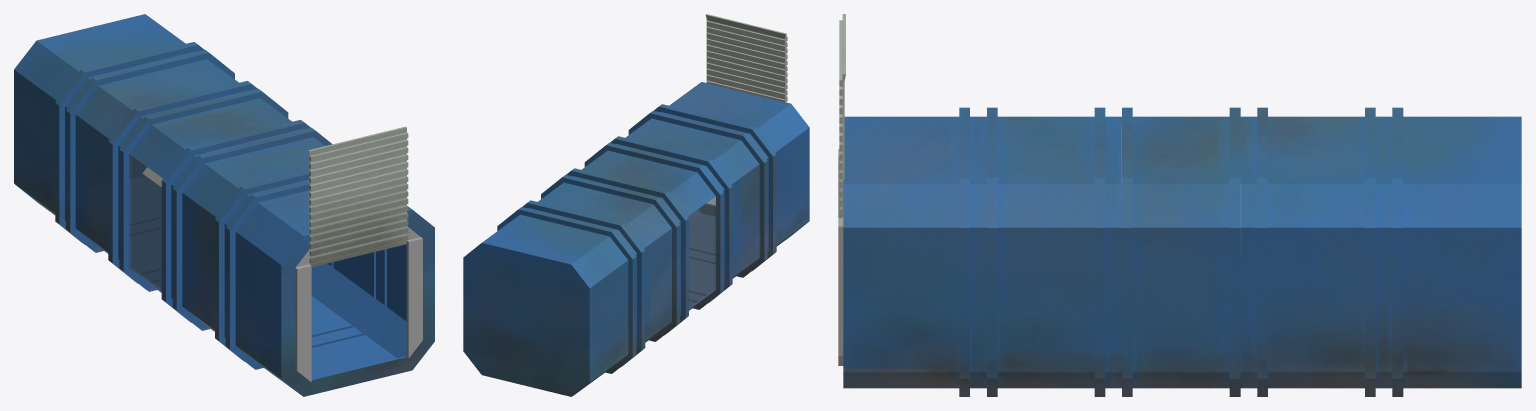
Rendered from modulekick.glb.
3 views of the same model, side by side, from view 1: azimuth 30°, elevation 25°; view 2: azimuth 150°, elevation 25°; view 3: azimuth 270°, elevation 25° (orthographic). The views are drawn at different scales.
Visible parts, largest first — view 1: moduleKick; view 2: moduleKick; view 3: moduleKick.
Boxes of the visible parts, box(x1,y1,x2,y2) form: moduleKick: box(14, 14, 434, 396); moduleKick: box(463, 14, 809, 396); moduleKick: box(838, 14, 1521, 396).
Size of the model in its own units: 2.14 by 3.11 by 6.07.
4 materials, 1 textured.
